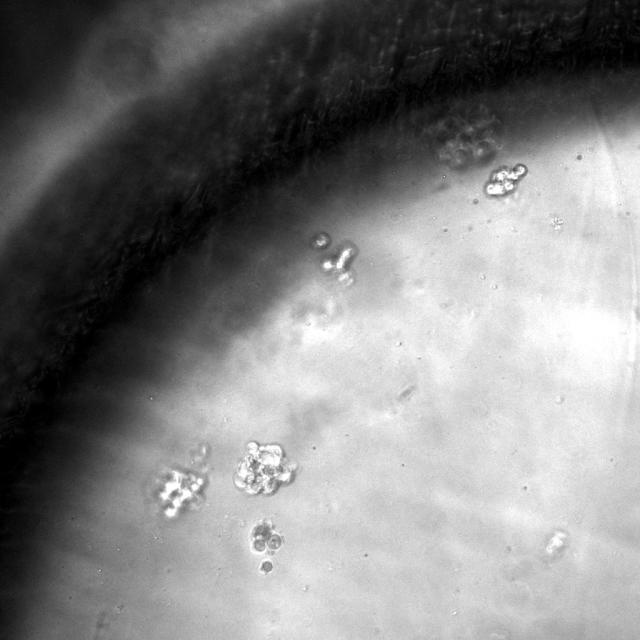organoid: (424, 102, 500, 169), (234, 441, 297, 494), (156, 468, 206, 518), (321, 242, 357, 281), (484, 163, 527, 195), (251, 520, 282, 554), (309, 231, 331, 250), (259, 557, 276, 574)
